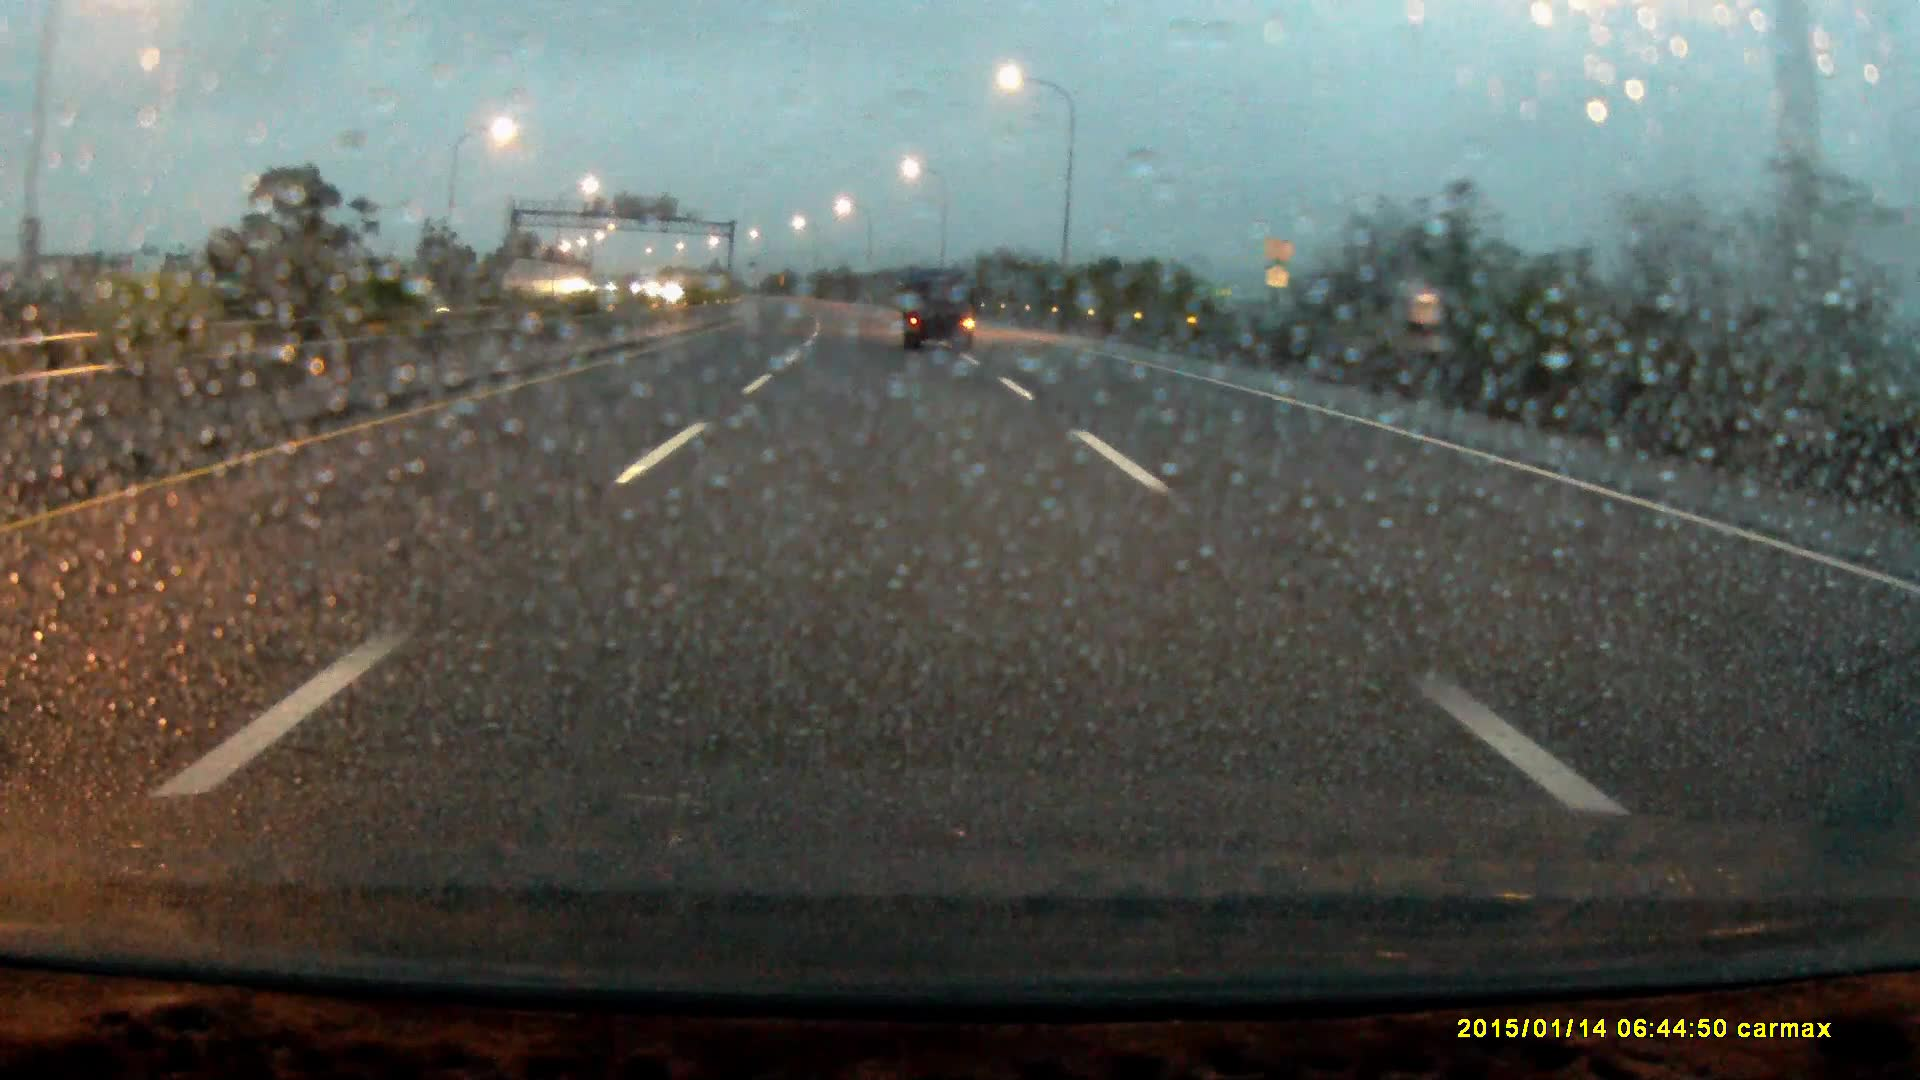vehicle: (902, 272, 977, 355)
